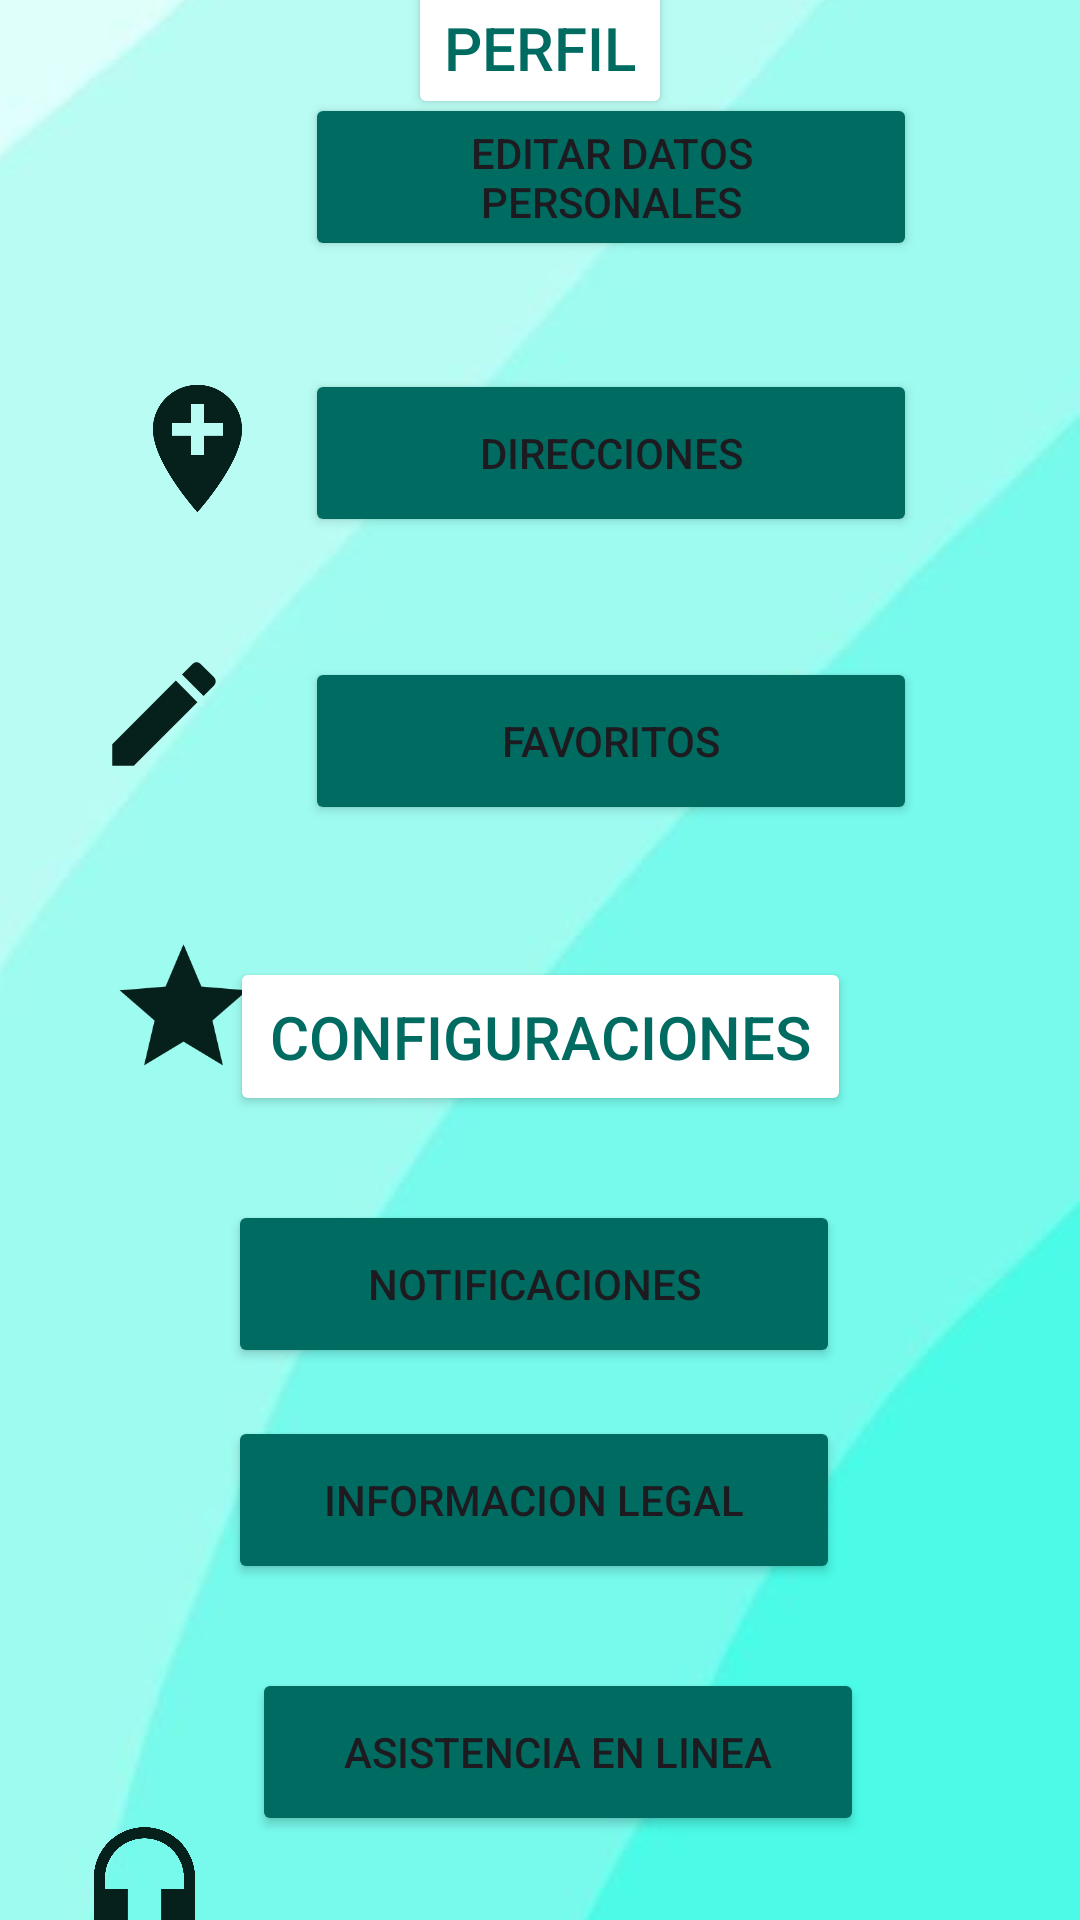

Named icons in this screenshot (1080×1920) and their bounding boxes, BBox(x1, y1, x2, y2):
add location: BBox(153, 385, 242, 512)
edit: BBox(112, 662, 233, 792)
star: BBox(120, 944, 260, 1092)
